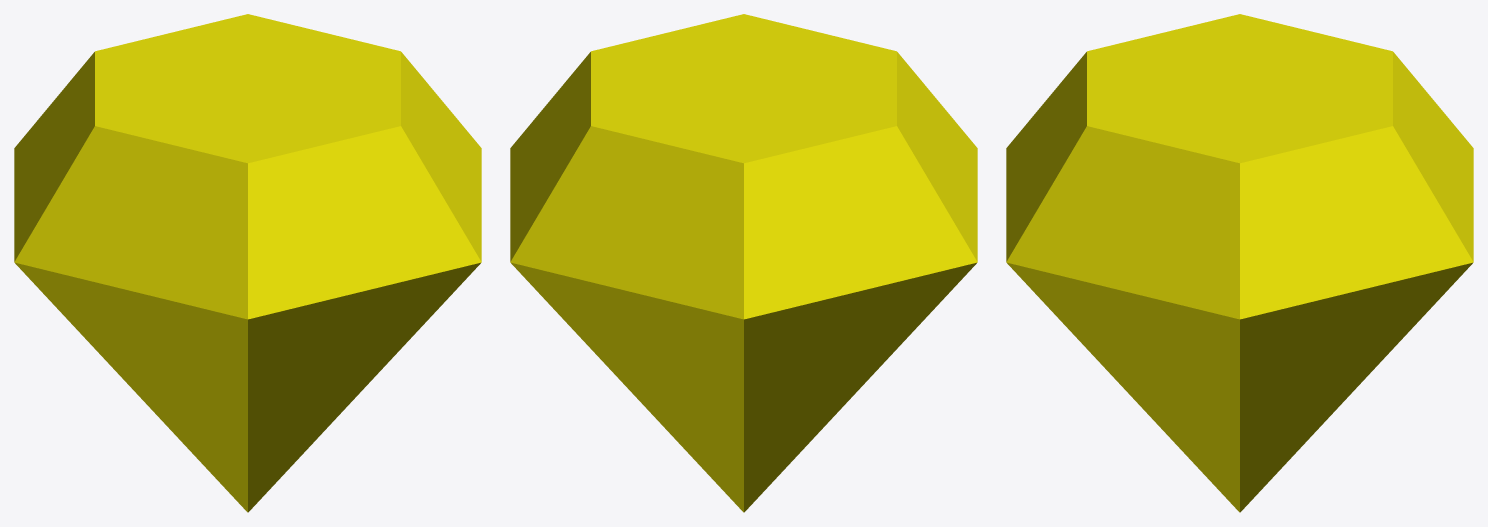
Rendered from Gem.fbx.
3 views of the same model, side by side, from view 1: azimuth 30°, elevation 25°; view 2: azimuth 150°, elevation 25°; view 3: azimuth 270°, elevation 25° (orthographic).
Visible parts, largest first — view 1: pCone1; view 2: pCone1; view 3: pCone1.
Boxes of the visible parts, left/top/right/bottom form: pCone1: left=14, top=14, right=481, bottom=512; pCone1: left=510, top=14, right=977, bottom=512; pCone1: left=1006, top=14, right=1473, bottom=512.
Bounding box in the file's own units: 3.55 × 3.08 × 3.08.
